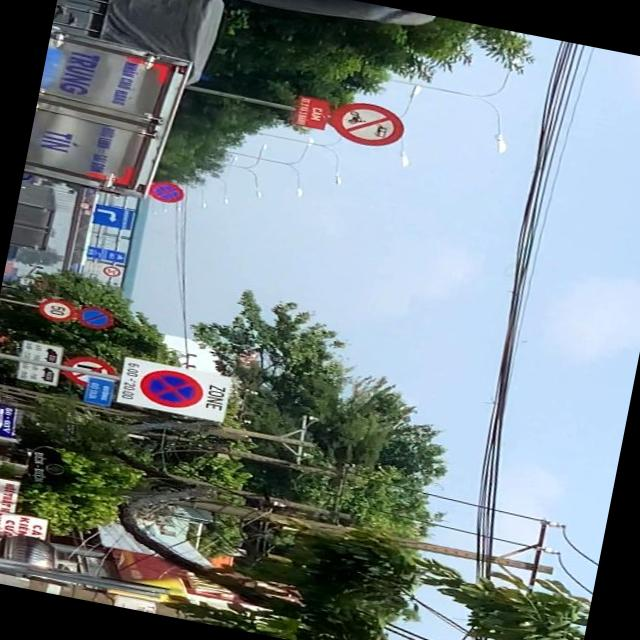P-104: (328, 98, 408, 152)
P-130: (138, 364, 208, 412)
